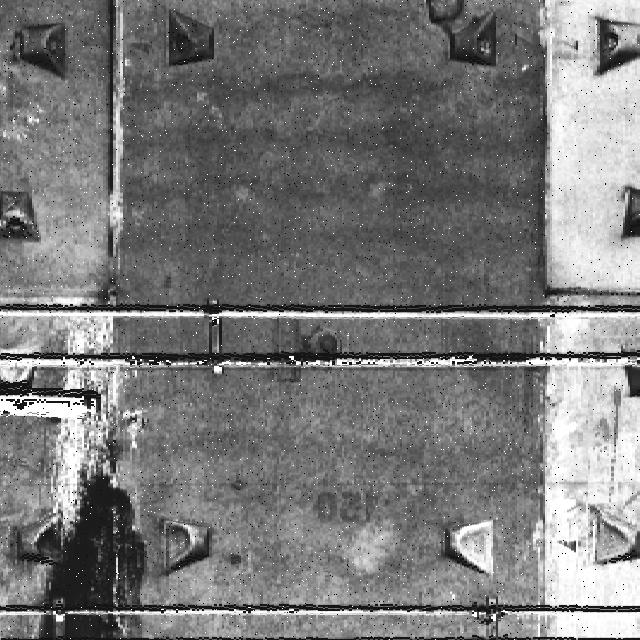leakage: (37, 315, 157, 639)
